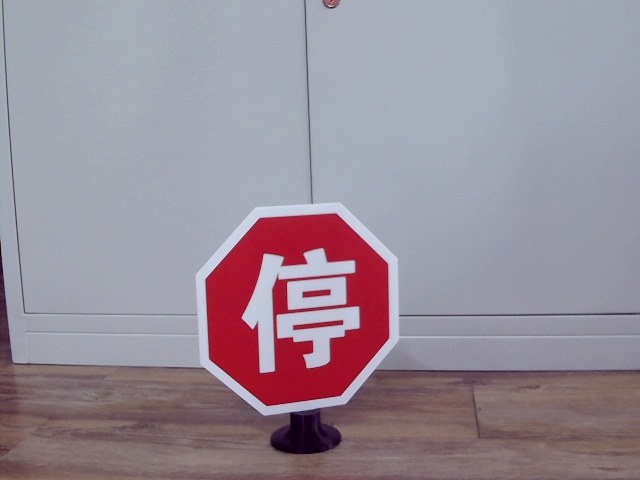stop: (240, 245, 366, 366)
